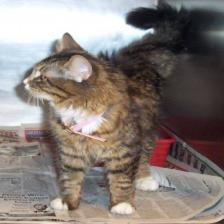cat: (14, 30, 127, 117)
